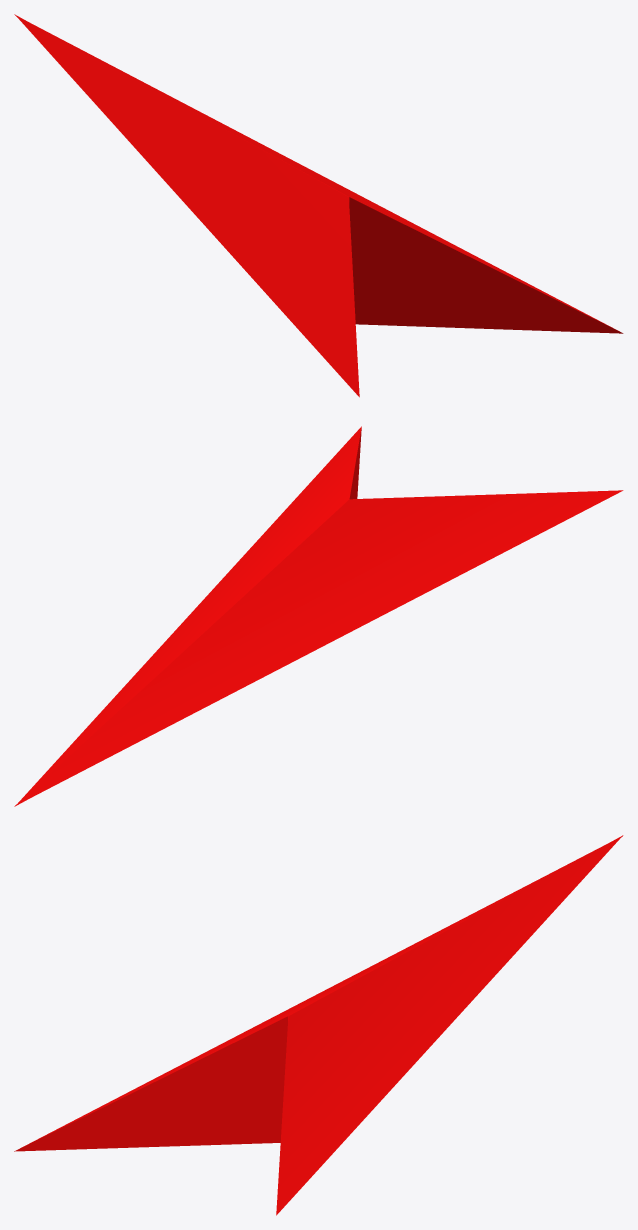
Rendered from RedArrow.fbx.
The picture shows the model from 3 angles, top to bottom: view 1: azimuth 30°, elevation 25°; view 2: azimuth 150°, elevation 25°; view 3: azimuth 330°, elevation 25°; orthographic projection.
Visible parts, largest first — view 1: Cube; view 2: Cube; view 3: Cube.
Part boxes in pixels (bbox=[...]): Cube: bbox=[14, 14, 623, 397]; Cube: bbox=[14, 426, 623, 806]; Cube: bbox=[14, 835, 623, 1215].
Bounding box in the file's own units: 150 × 68.94 × 472.
